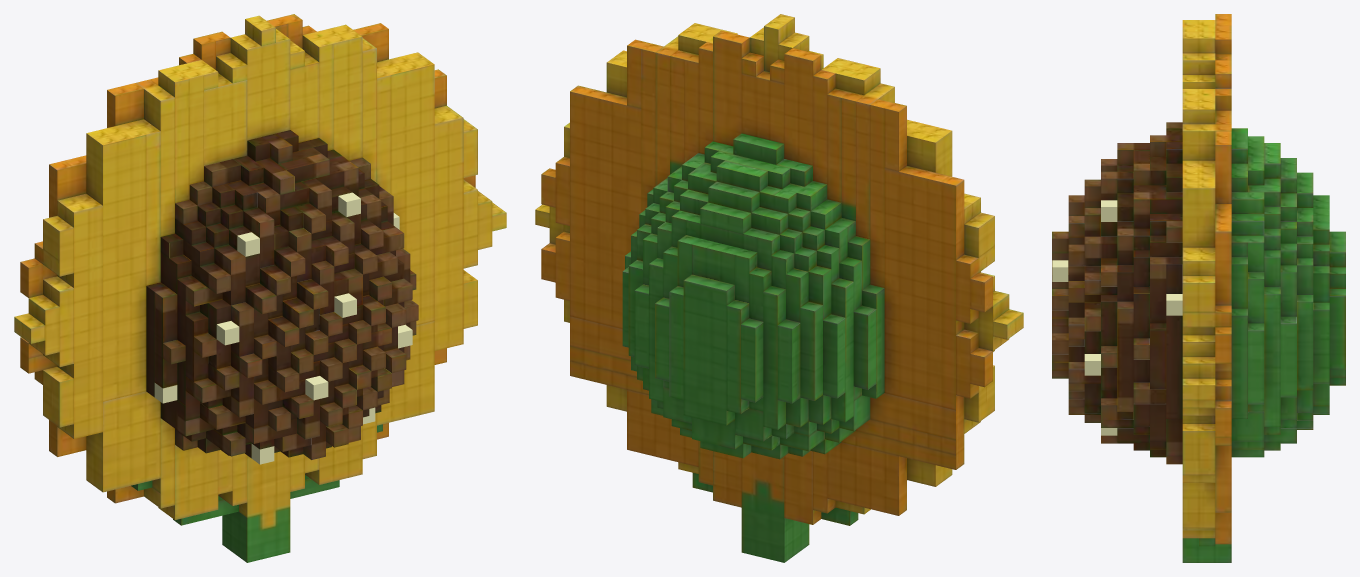
The model's file is sunflower.glb.
3 views of the same model, side by side, from view 1: azimuth 30°, elevation 25°; view 2: azimuth 150°, elevation 25°; view 3: azimuth 270°, elevation 25° (orthographic). The views are drawn at different scales.
Parts seen in each view (by area): view 1: Body.010, Glow.009; view 2: Body.010; view 3: Body.010, Glow.009.
Part boxes in pixels (<box>): Body.010: <box>14,14,506,562</box>; Glow.009: <box>154,192,412,464</box>; Body.010: <box>535,14,1023,562</box>; Body.010: <box>1052,14,1345,562</box>; Glow.009: <box>1052,200,1182,435</box>.
Bounding box in the file's own units: 4.95 × 5.25 × 2.7.
Materials: 2 (1 with a texture image).
